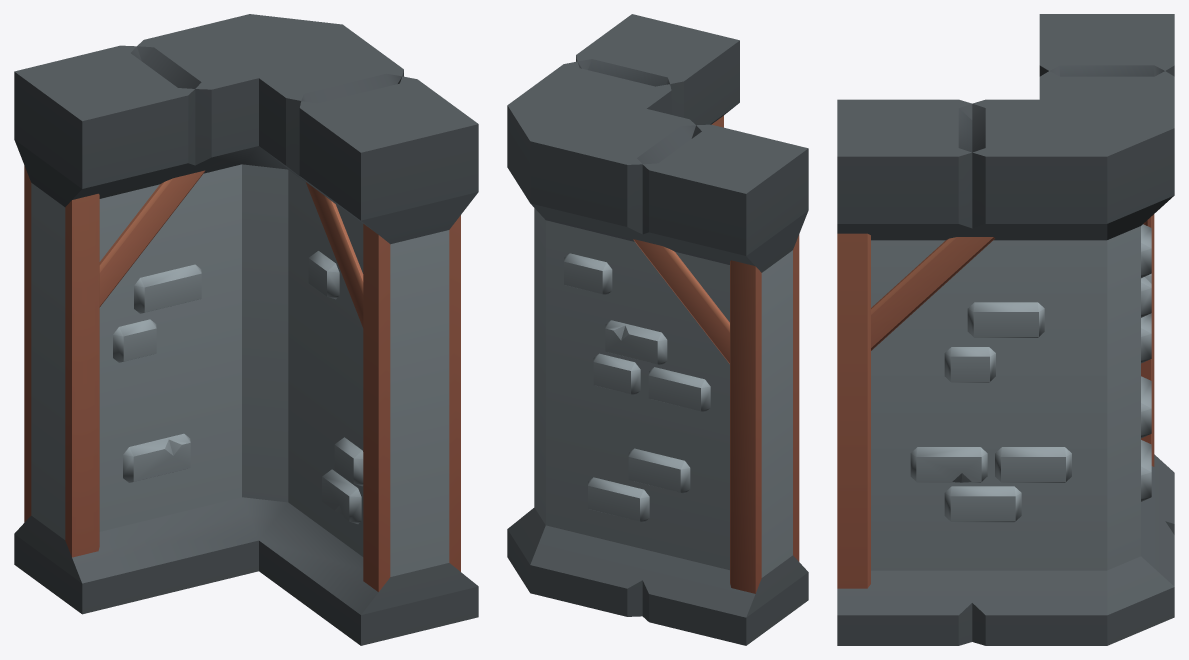
Rendered from wall_corner_scaffold.gltf.
3 renders of one model, left to right at view 1: azimuth 30°, elevation 25°; view 2: azimuth 150°, elevation 25°; view 3: azimuth 270°, elevation 25°, orthographic. The views are drawn at different scales.
Parts seen in each view (by area): view 1: wall_corner_scaffold; view 2: wall_corner_scaffold; view 3: wall_corner_scaffold.
Part boxes in pixels (x1,y1,x2,y2): wall_corner_scaffold: (14, 14, 478, 645); wall_corner_scaffold: (507, 14, 808, 645); wall_corner_scaffold: (837, 14, 1174, 645).
Size of the model in its own units: 2.5 by 4 by 2.5.
1 material, 1 textured.
